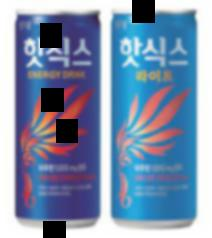hotsix_org: (12, 8, 103, 227)
